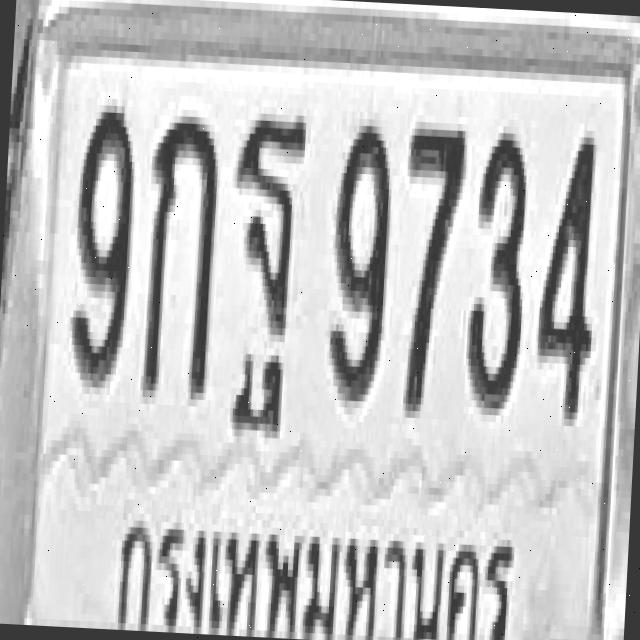10GorGai: (140, 108, 221, 400)
25ThorThan: (225, 109, 308, 394)
3: (464, 125, 532, 409)
4: (532, 129, 600, 420)
7: (395, 121, 466, 413)
9: (67, 100, 137, 386), (324, 118, 394, 402)
Bangkok: (106, 493, 526, 640)
